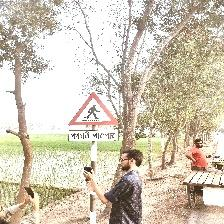Pedestrian-crossing: (68, 93, 119, 141)
